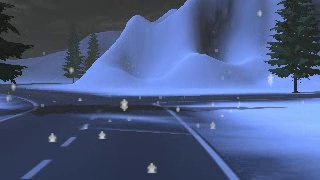Lane: (0, 82, 295, 179)
